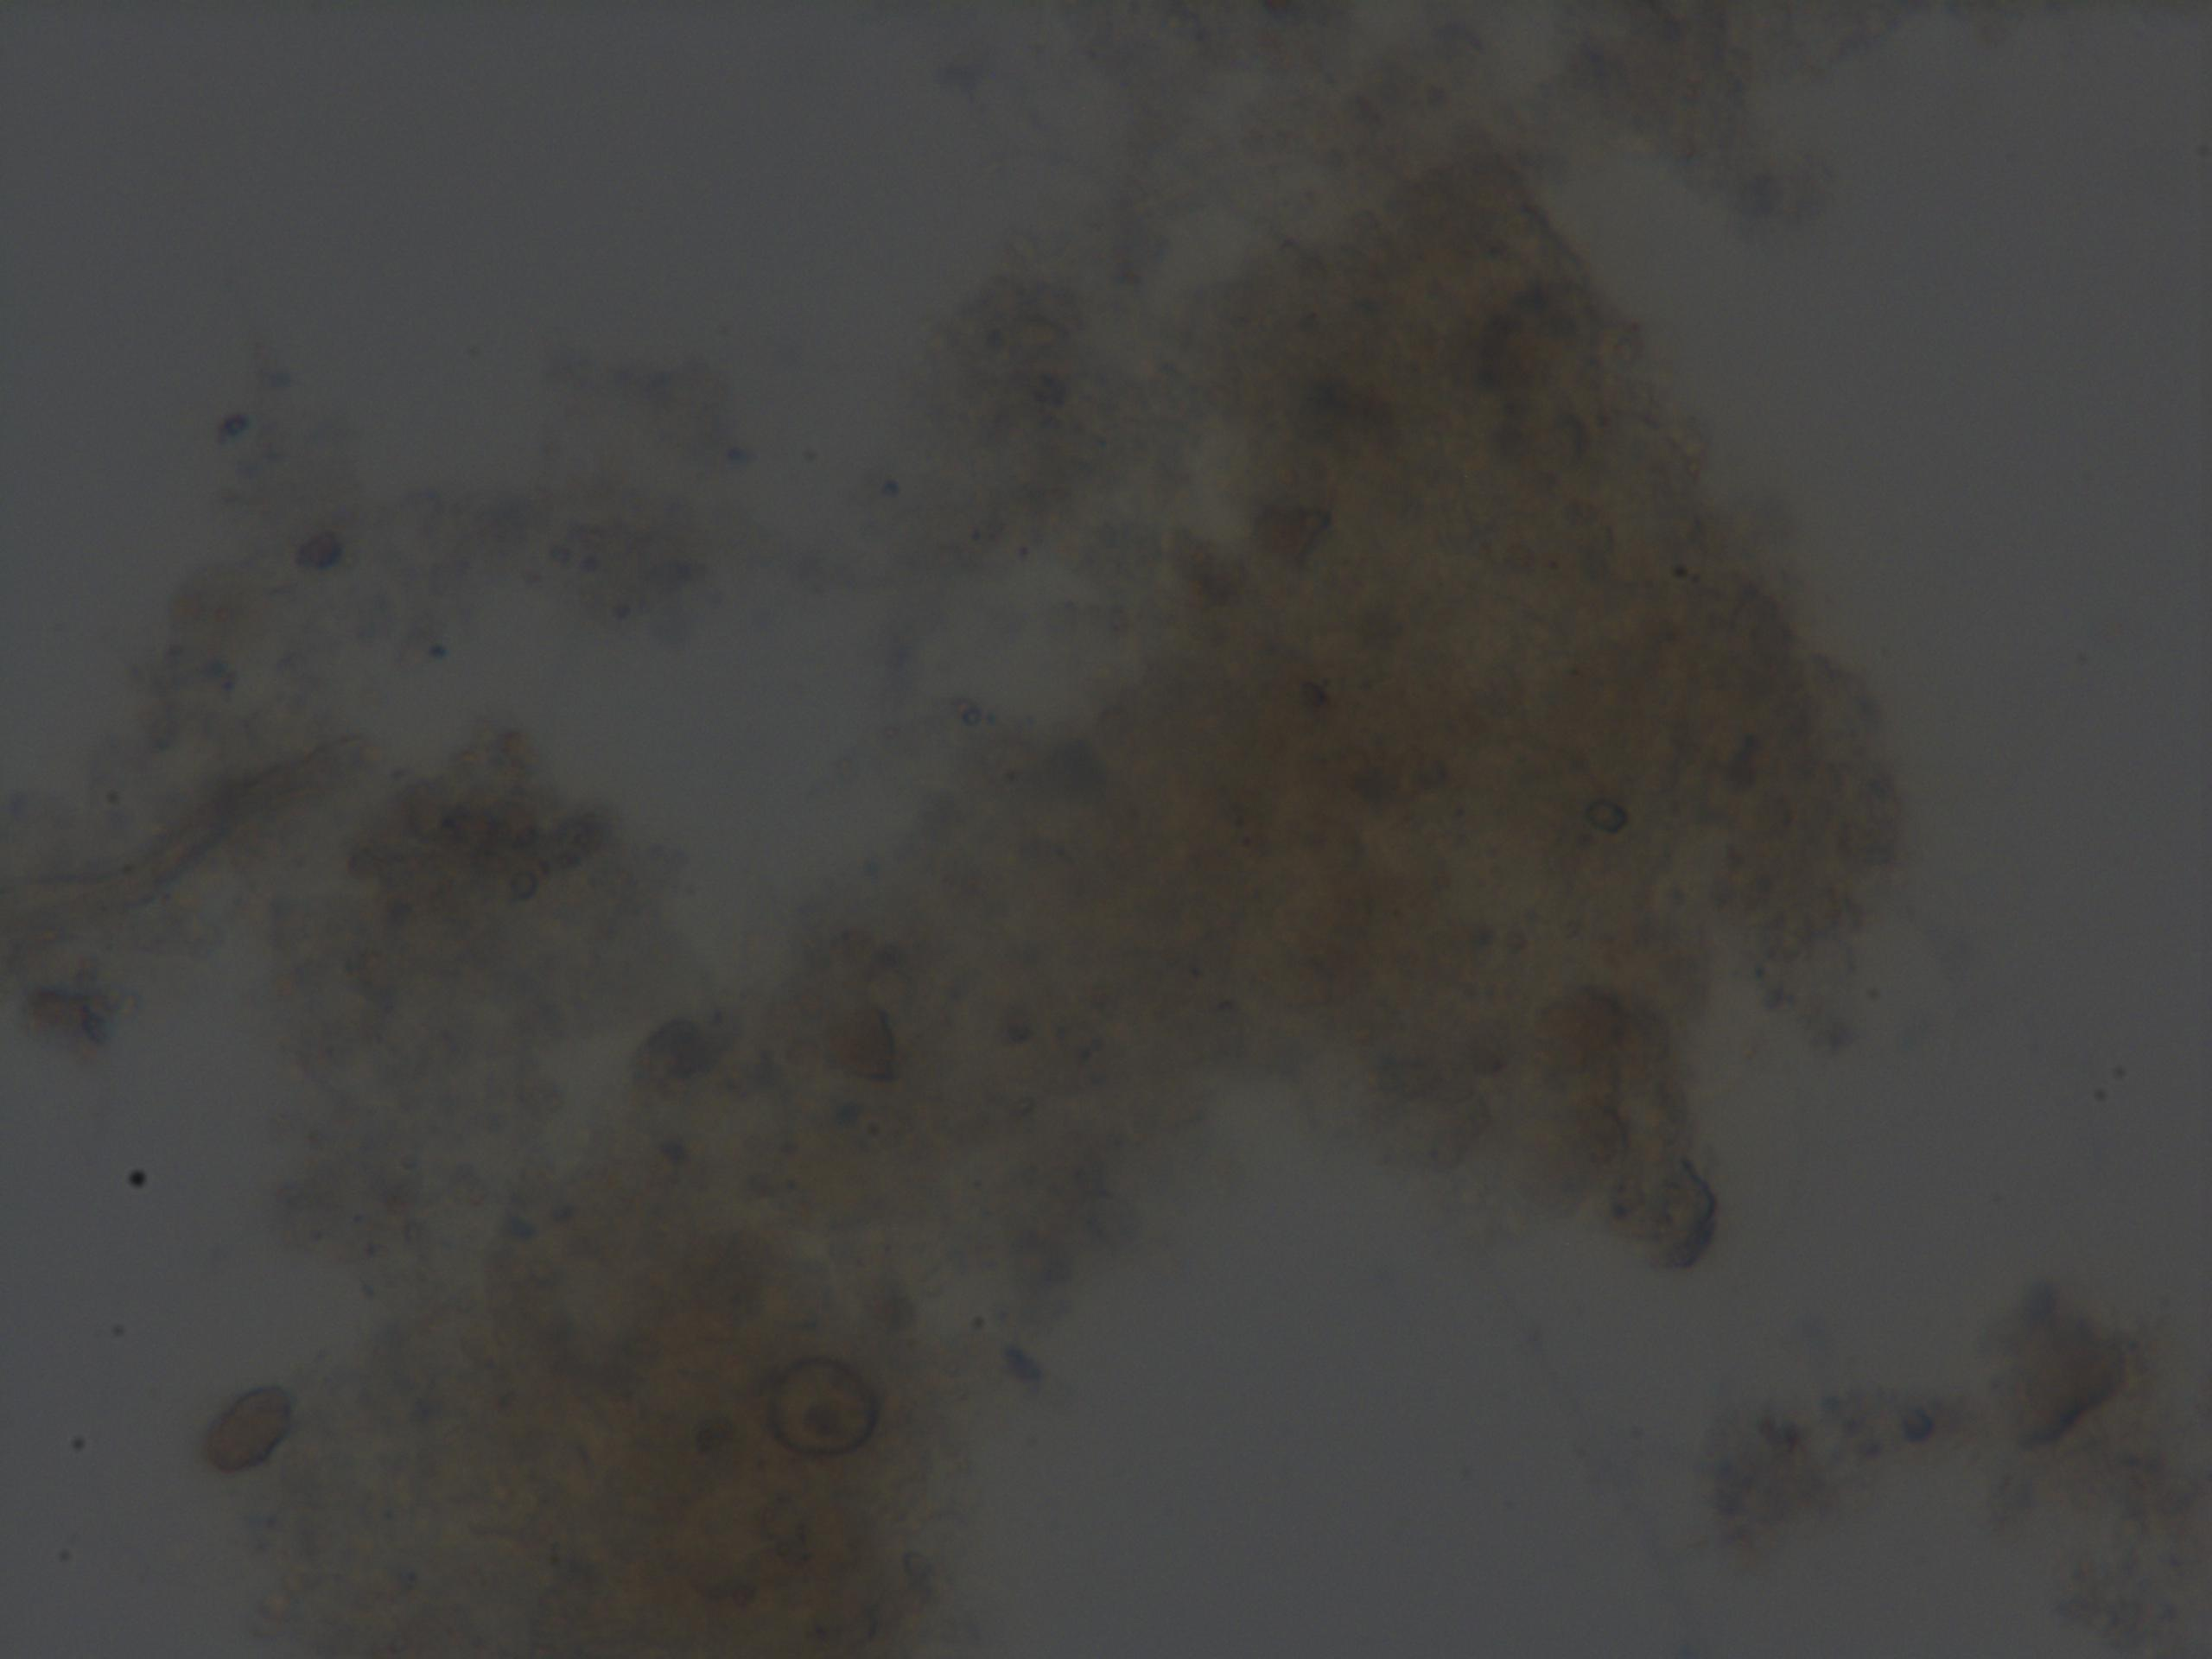open_floc: (230, 139, 1925, 1659)
